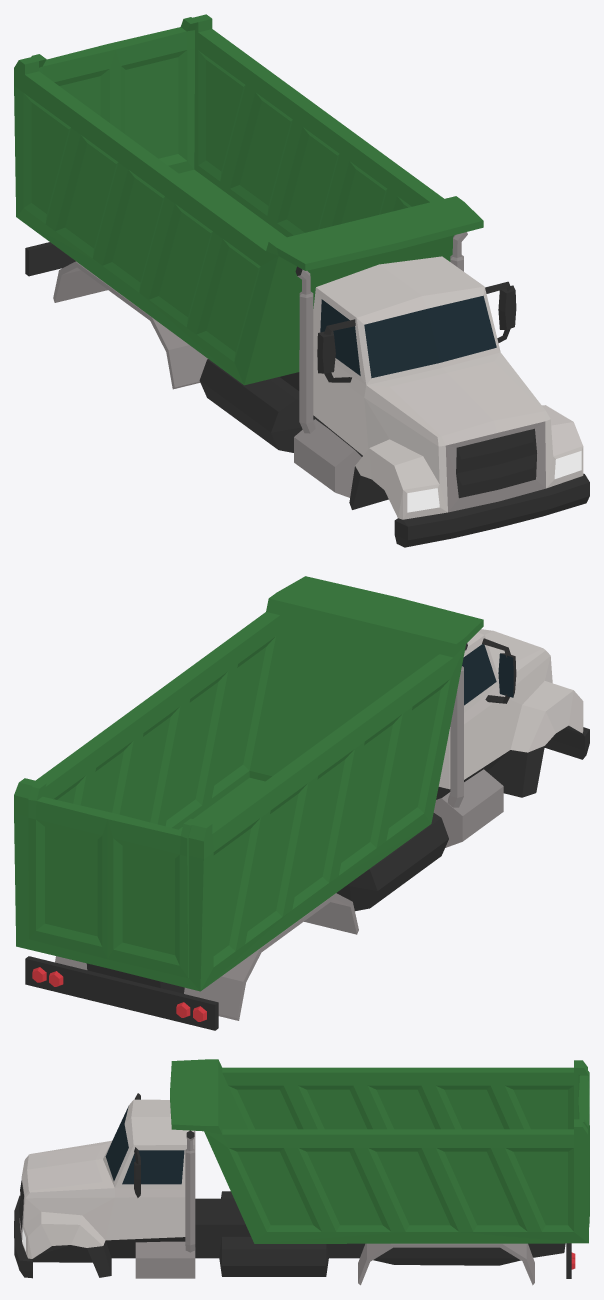
The model's file is car-truck-dump-base.glb.
3 views of the same model, one above another, from view 1: azimuth 30°, elevation 25°; view 2: azimuth 150°, elevation 25°; view 3: azimuth 270°, elevation 25° (orthographic). The views are drawn at different scales.
Visible parts, largest first — view 1: car-truck-dump-base; view 2: car-truck-dump-base; view 3: car-truck-dump-base.
Boxes of the visible parts, bbox=[...] form: car-truck-dump-base: bbox=[14, 14, 589, 547]; car-truck-dump-base: bbox=[14, 576, 589, 1030]; car-truck-dump-base: bbox=[14, 1059, 589, 1285].
Size of the model in its own units: 2.57 by 2.82 by 8.94.
1 material, 1 textured.
